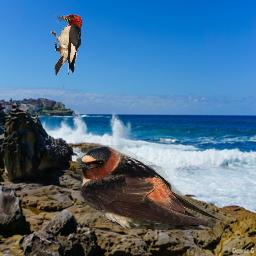Swallow: (76, 145, 223, 232)
Woodpecker: (50, 14, 82, 76)
